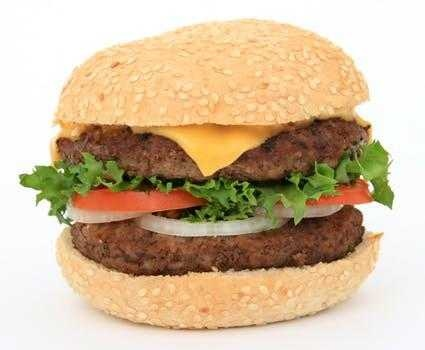hamburger: (44, 21, 398, 315)
